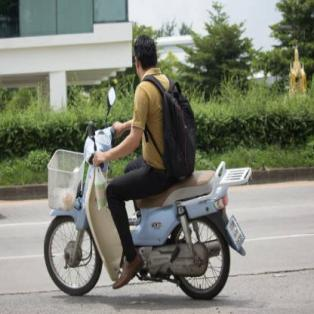Motocicleta: (41, 109, 244, 298)
